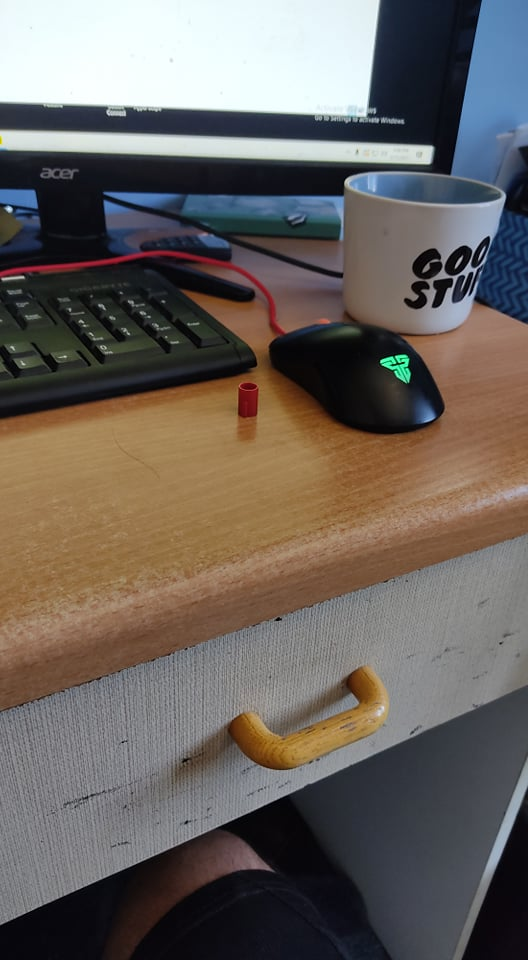red_bucking: (226, 377, 268, 426)
